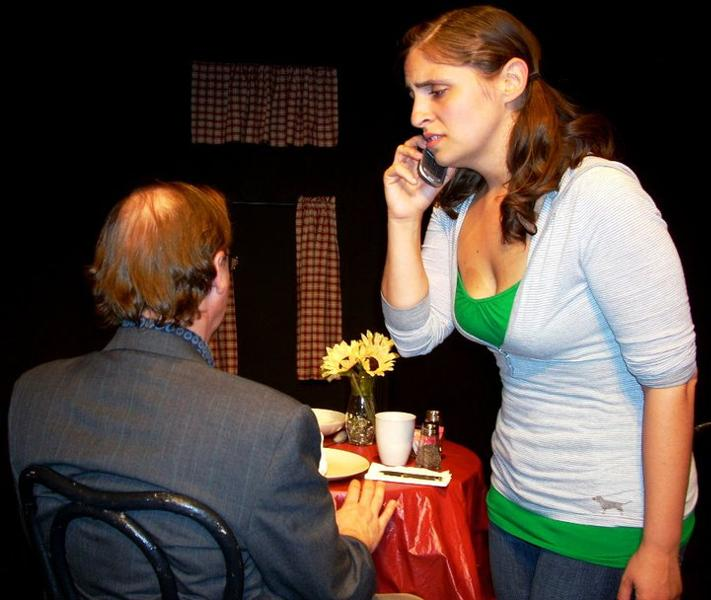person: (378, 9, 701, 600)
